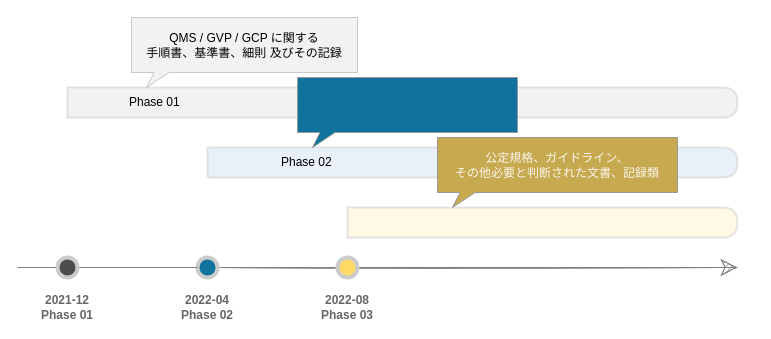
This 771x339 diagram has some shape labels left out. Here are the shapes that lost their labels. From the top down, the box of each, then its label:
(296, 76, 518, 148): 設計仕様書、製品標準書、IFU、 取説、社内規則など
(346, 206, 738, 238): Phase 03
